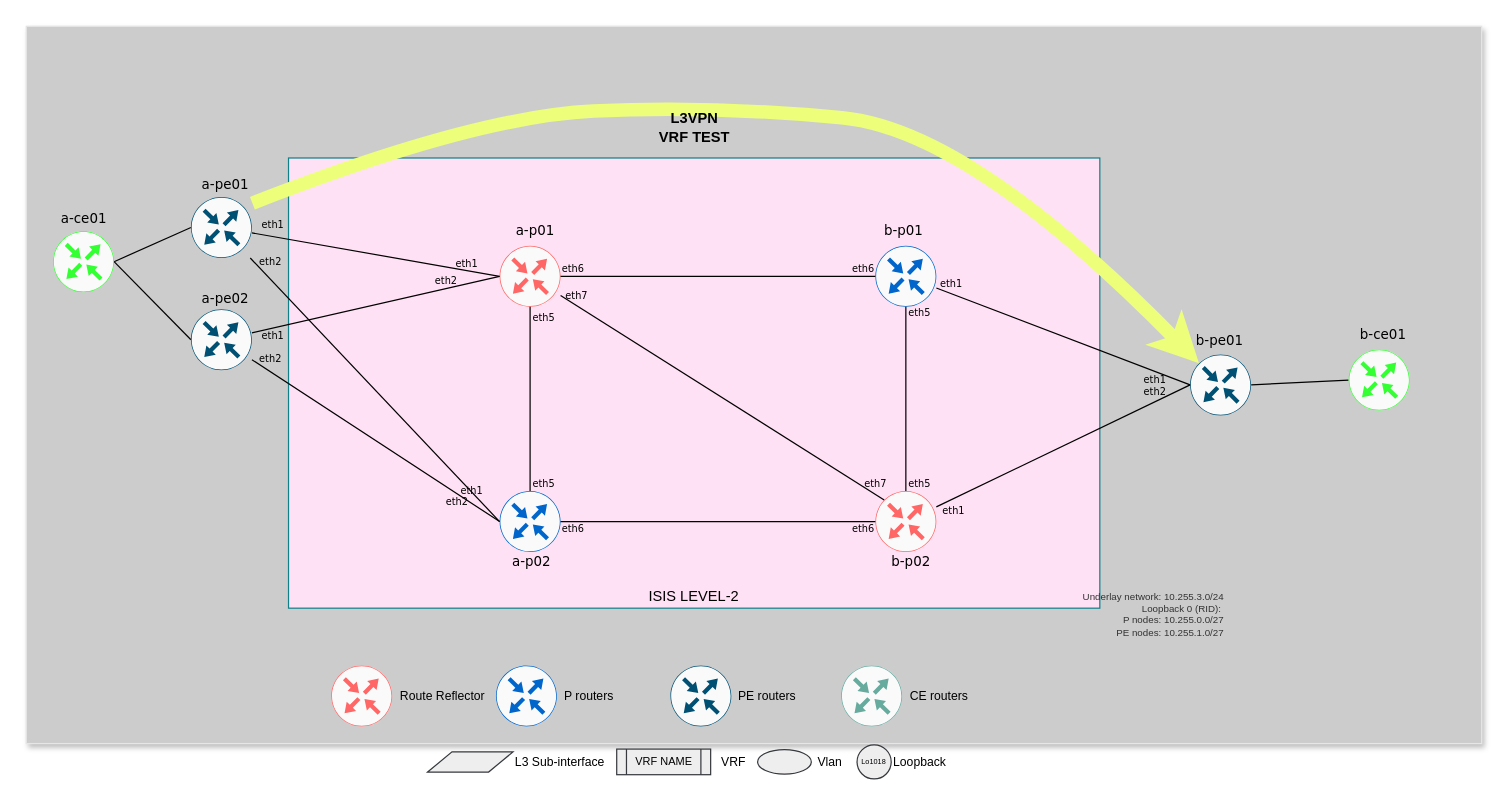
The diagram is 1510 pixels wide and 800 high, and some of its shapes have lost their labels. Here are the shapes that lost their labels. From the top down, the centre of each, then its label:
At pixel 469 761: "eth5.101".
At pixel 783 761: "VLAN ID".
